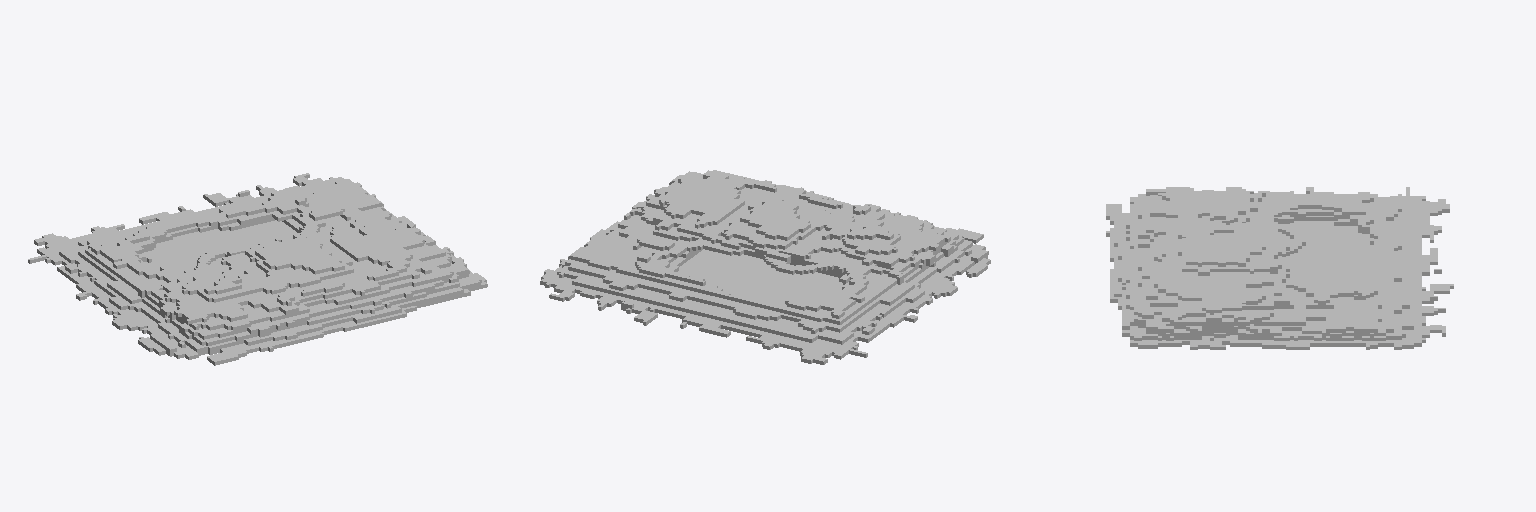
File: lake.obj
The picture shows the model from 3 angles: view 1: azimuth 30°, elevation 25°; view 2: azimuth 150°, elevation 25°; view 3: azimuth 270°, elevation 25°; orthographic projection.
Visible parts, largest first — view 1: object 1; view 2: object 1; view 3: object 1.
Part boxes in pixels (left/top/right/bottom): object 1: left=28, top=173, right=487, bottom=365; object 1: left=540, top=170, right=990, bottom=364; object 1: left=1106, top=187, right=1453, bottom=349.
Size of the model in its own units: 9.4 by 0.8 by 8.7.